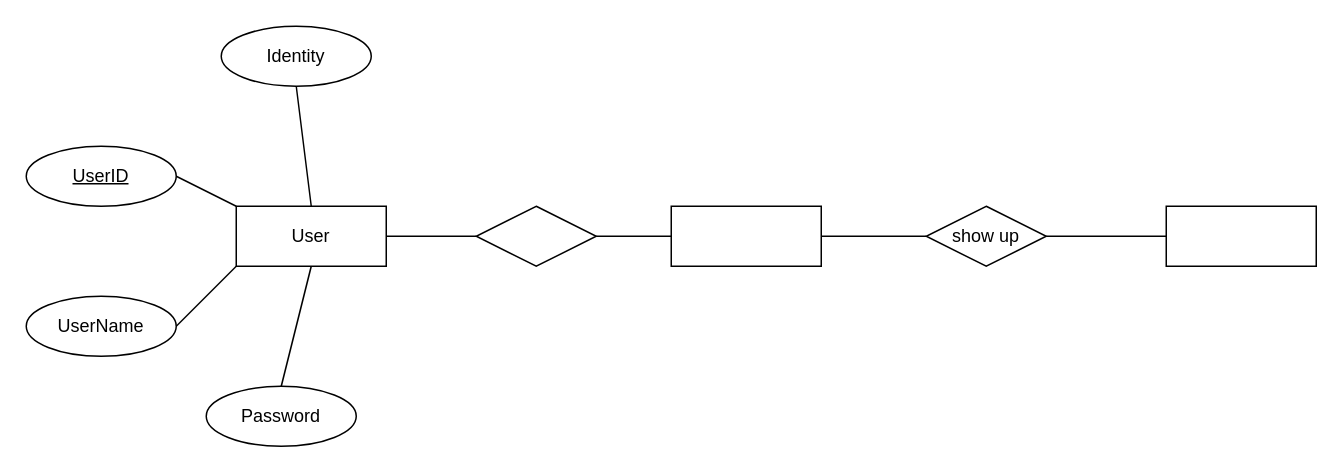
The diagram is 1343 pixels wide and 473 high, and some of its shapes have lost their labels. The shapes that lost their labels are listed below. From the top down, each one's centre as x and y in pixels, then its label:
At pixel 535 235: "login".
At pixel 745 235: "Event Card System".
At pixel 1240 235: "Event card GUI".
